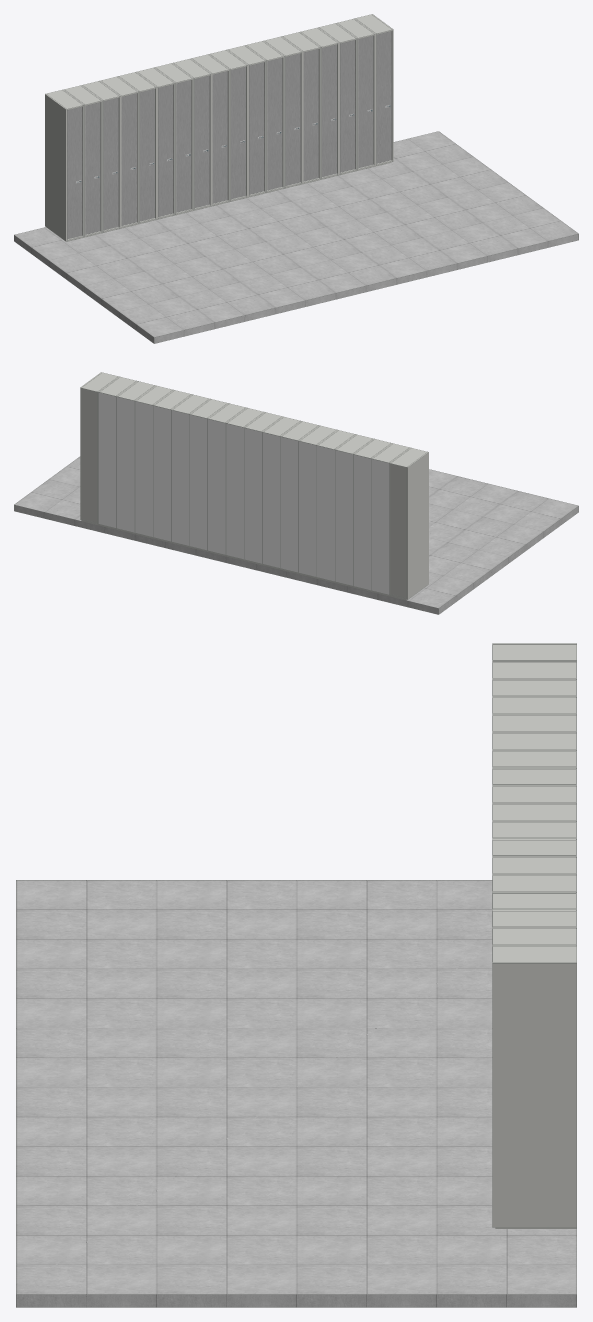
The model's file is modell.glb.
3 views of the same model, one above another, from view 1: azimuth 30°, elevation 25°; view 2: azimuth 150°, elevation 25°; view 3: azimuth 270°, elevation 25° (orthographic). The views are drawn at different scales.
Size of the model in its own units: 7003 by 2203 by 4003.
11 materials, 4 textured.
